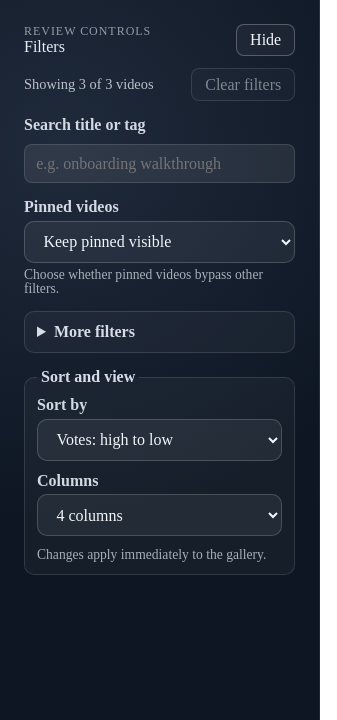
FilterPanel › searches titles or tags and changes pinned handling through labeled native controls
Expected: the label "Search title or tag" is shown, x1=24 y1=116 x2=146 y2=133
Type "onboarding" into the field labelled "Search title or tag" at (160,164), box x1=24 y1=144 x2=295 y2=183
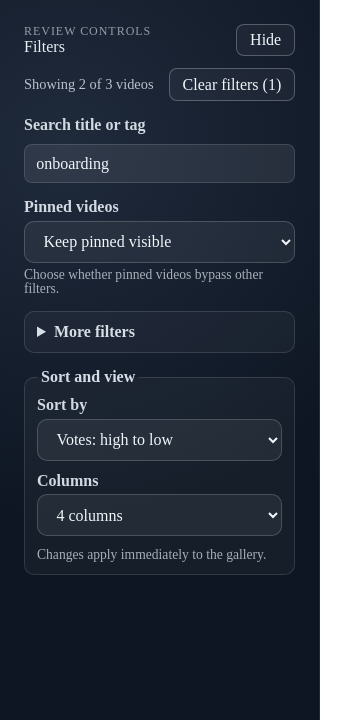
Result: the text "Showing 2 of 3 videos" is shown at x1=24 y1=77 x2=154 y2=92
Select "Match all filters" in the dropdown labelled "Pinned videos" at (160,242), box x1=24 y1=221 x2=295 y2=262
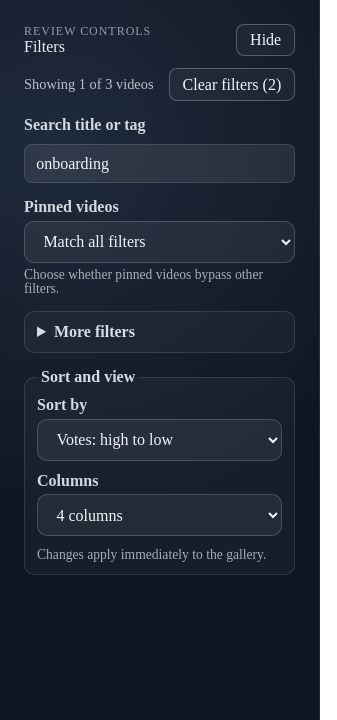
Result: the text "Showing 1 of 3 videos" is shown at x1=24 y1=77 x2=154 y2=92
